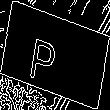P_N: (39, 26, 71, 84)
